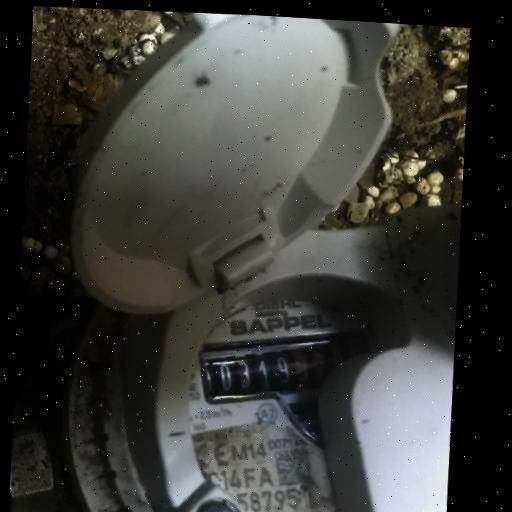0: (208, 355, 240, 398)
1: (248, 349, 278, 394)
3: (230, 354, 260, 396)
7: (303, 342, 336, 390)
8: (322, 334, 353, 372)
9: (285, 346, 316, 391), (267, 347, 297, 391)
border_water_meter_number: (193, 318, 375, 414)
